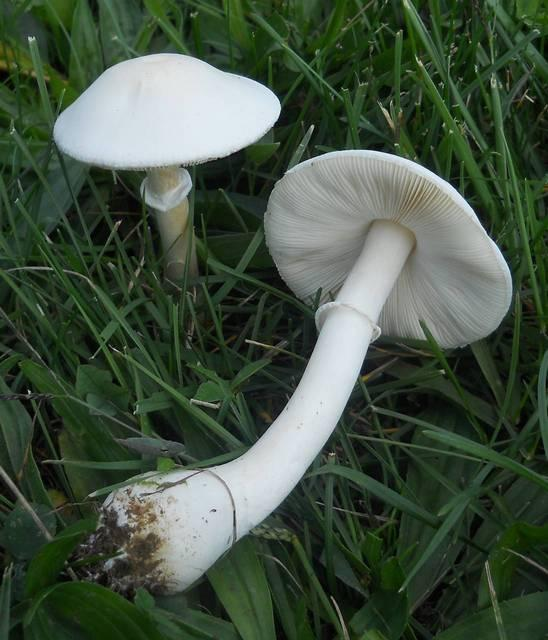poisonous_mushroom: (80, 147, 513, 598), (51, 51, 281, 292)
